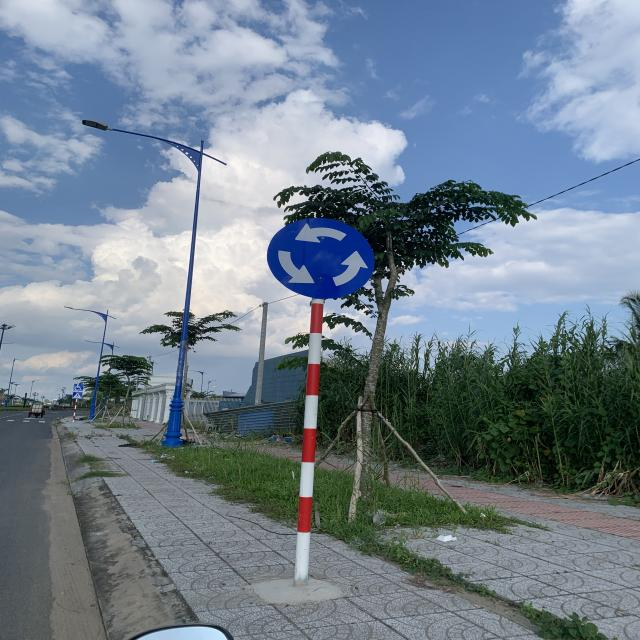Xe_Bus: (267, 217, 376, 301)
